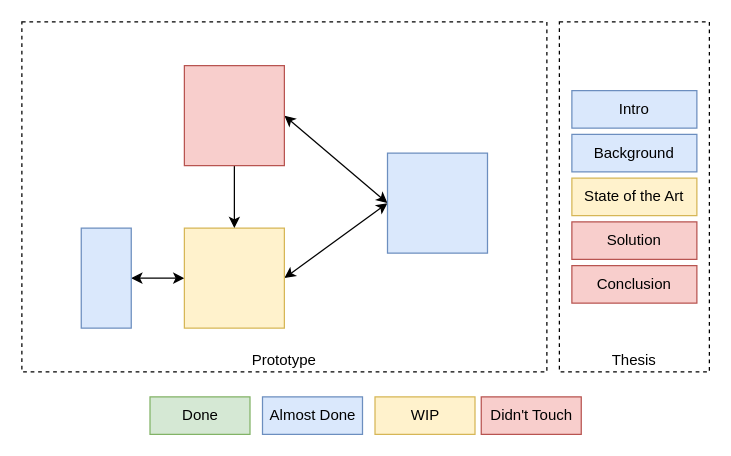
Image size: 731x456. Some labels were removed from this diagram. Each missing label, with the centre of its shape:
Blockchain: the point at 437,202
GUI: the point at 105,277
OBU: the point at 233,277
RSU: the point at 233,115
